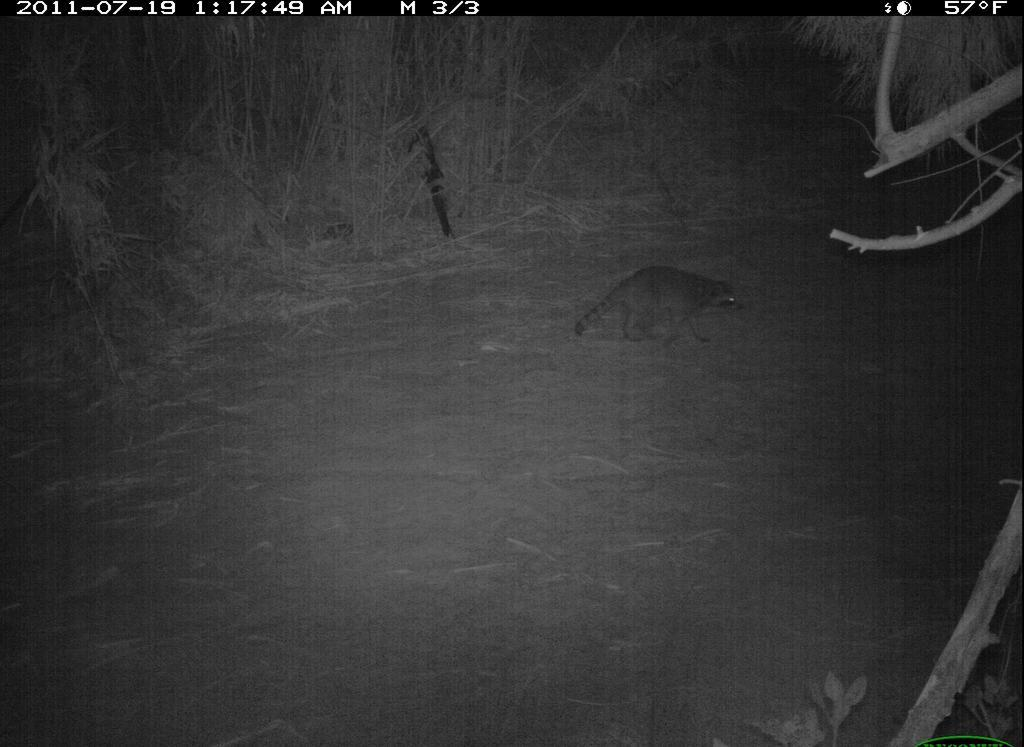raccoon: (560, 257, 770, 364)
